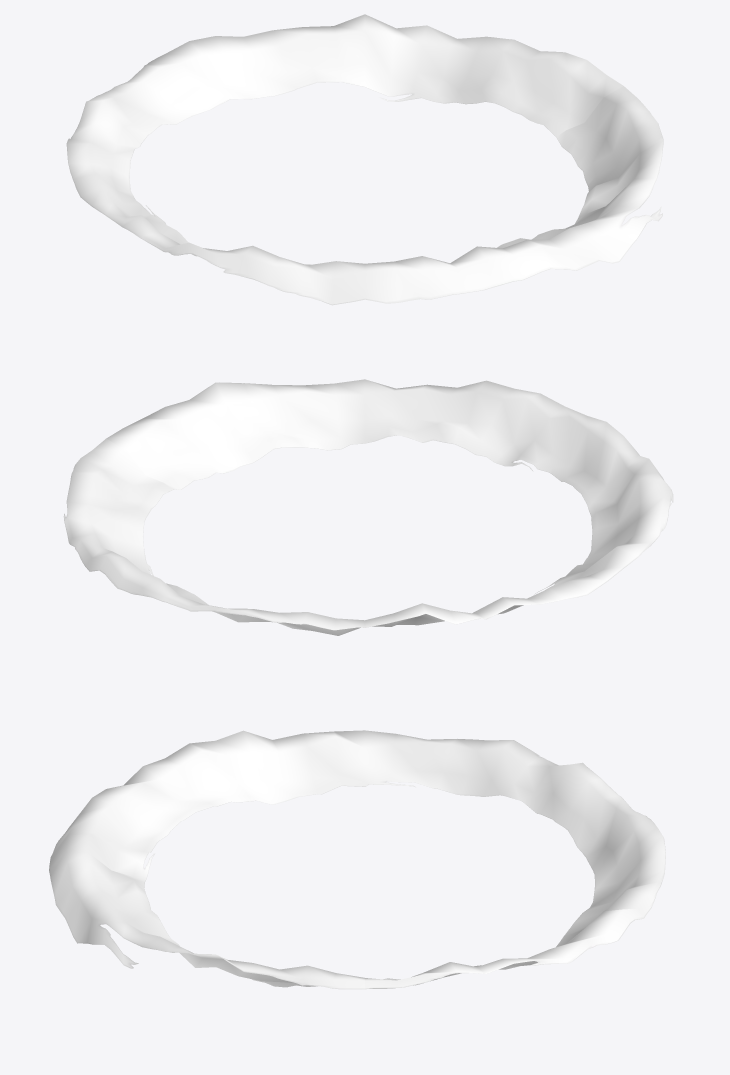
The model's file is fx_huanyan_01.FBX.
The picture shows the model from 3 angles, top to bottom: view 1: azimuth 30°, elevation 25°; view 2: azimuth 150°, elevation 25°; view 3: azimuth 270°, elevation 25°; orthographic projection.
Parts seen in each view (by area): view 1: Plane001; view 2: Plane001; view 3: Plane001.
Part boxes in pixels (x1,y1,x2,y2): Plane001: (66,14,663,305); Plane001: (63,379,673,635); Plane001: (49,730,665,989).
Bounding box in the file's own units: 44.96 × 5.23 × 44.96.
